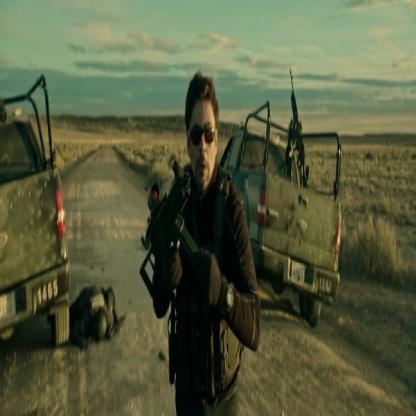Gun: (135, 153, 207, 304), (288, 65, 310, 193)
